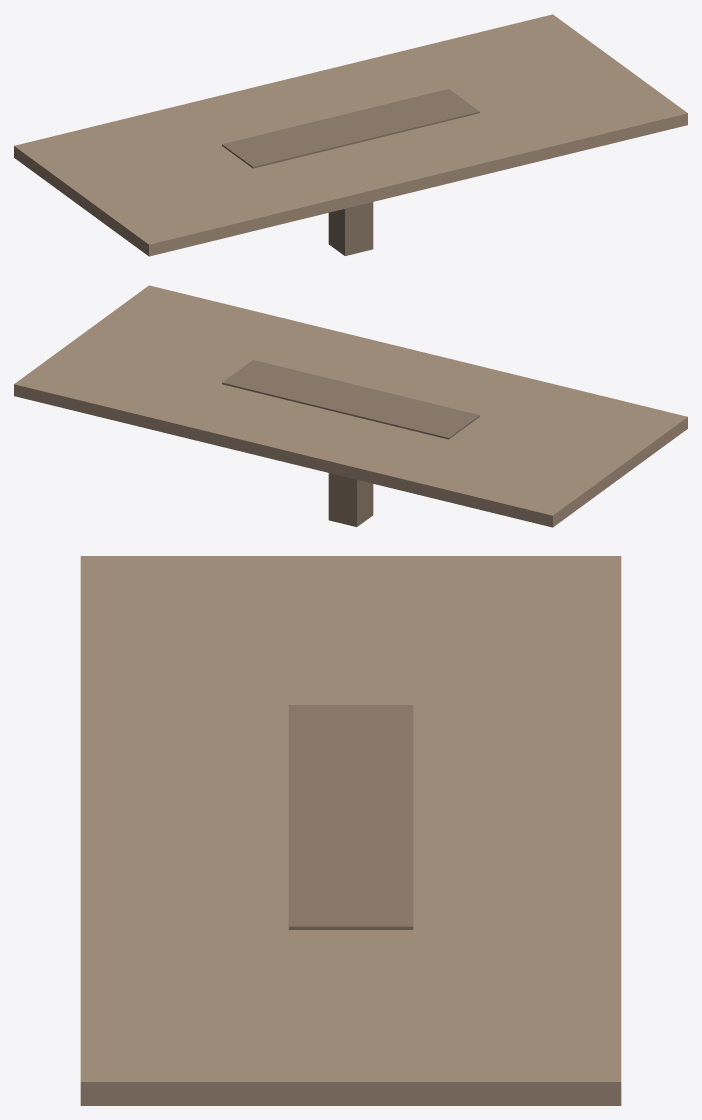
The model's file is conference_table-6.glb.
3 views of the same model, one above another, from view 1: azimuth 30°, elevation 25°; view 2: azimuth 150°, elevation 25°; view 3: azimuth 270°, elevation 25° (orthographic). The views are drawn at different scales.
Parts seen in each view (by area): view 1: table_top, table_inset, table_leg; view 2: table_top, table_inset, table_leg; view 3: table_top, table_inset.
Boxes of the visible parts, left/top/right/bottom form: table_top: left=14, top=14, right=687, bottom=256; table_inset: left=222, top=89, right=479, bottom=168; table_leg: left=328, top=202, right=373, bottom=255; table_top: left=14, top=285, right=687, bottom=527; table_inset: left=222, top=360, right=479, bottom=439; table_leg: left=328, top=473, right=373, bottom=526; table_top: left=80, top=556, right=621, bottom=1105; table_inset: left=288, top=705, right=413, bottom=929.
Bounding box in the file's own units: 3.8 × 0.801 × 1.65.
